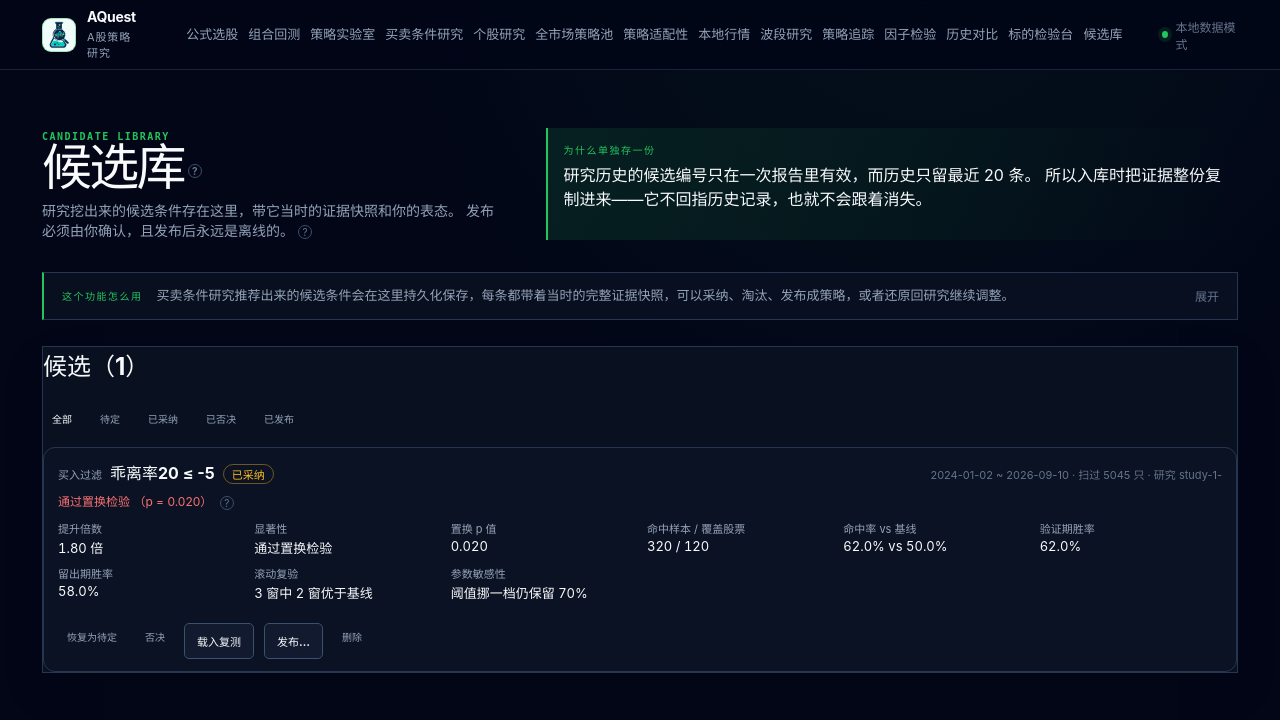
Test case: CandidateLibraryPage › asks for an exit rule when the study had none
What coordinates should you click on to do the following:
click the button with test id "candidate-publish-open-c1"
I would click on:
 (294, 641)
Its box is x1=264 y1=623 x2=323 y2=659.
(page scrolled)
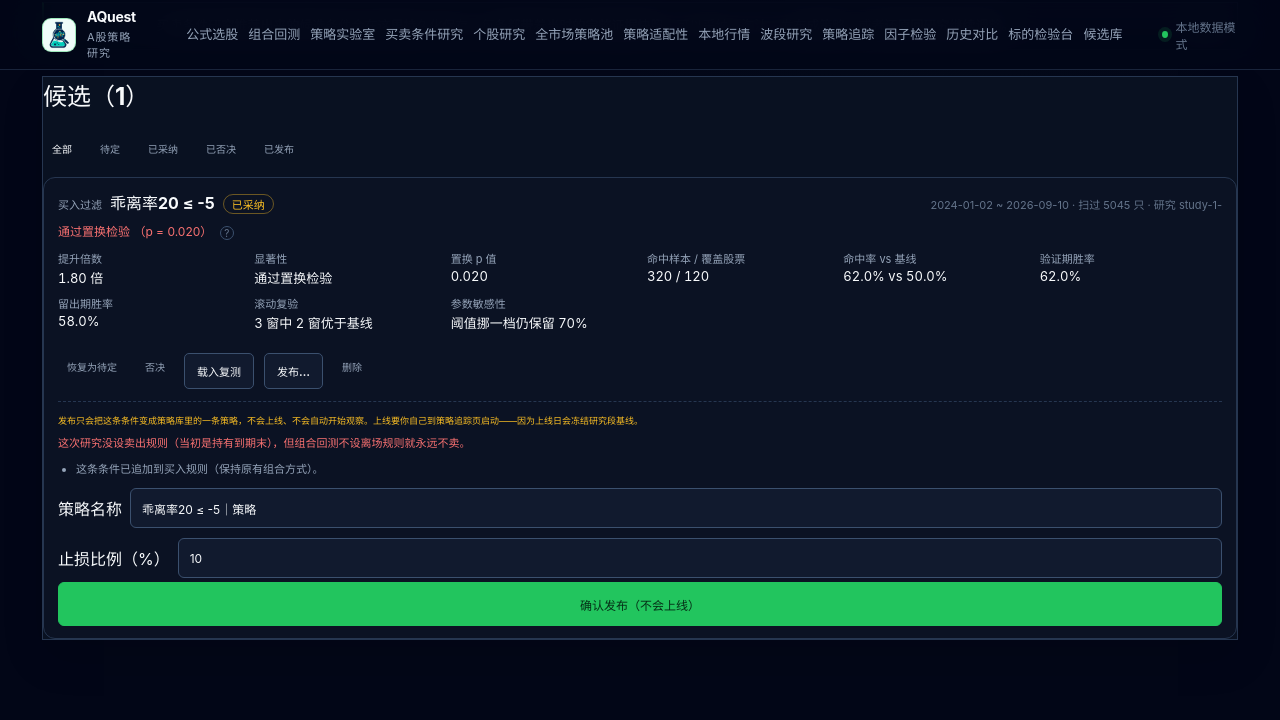
expect the element with test id "publish-blockers" shows "离场": met, box x1=58 y1=436 x2=470 y2=450
expect the number field with test id "publish-stop-loss-c1" is shown: met, box x1=178 y1=538 x2=1222 y2=578
